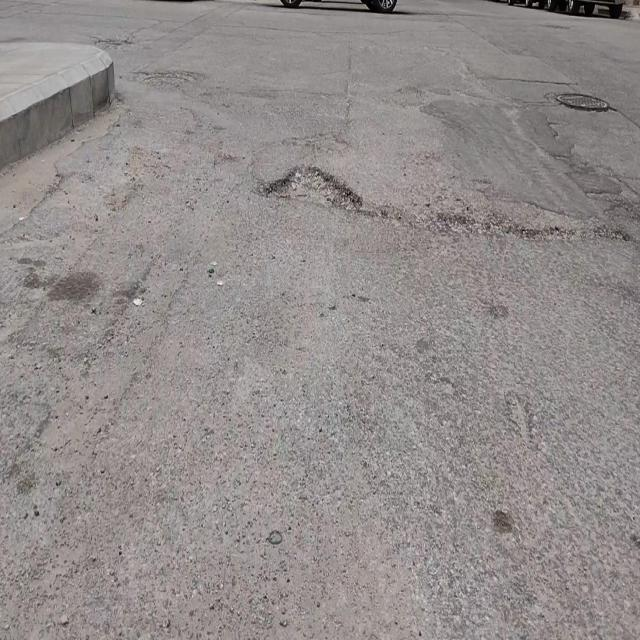Potholes: (261, 160, 366, 215)
